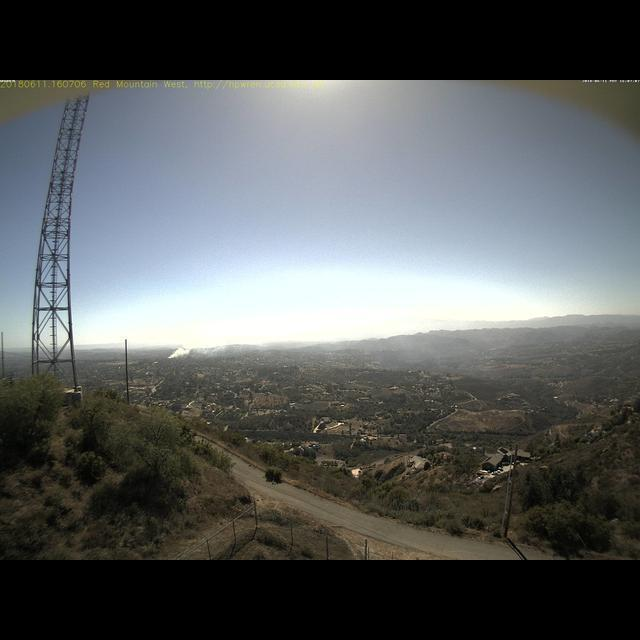Smoke: (166, 336, 208, 359)
